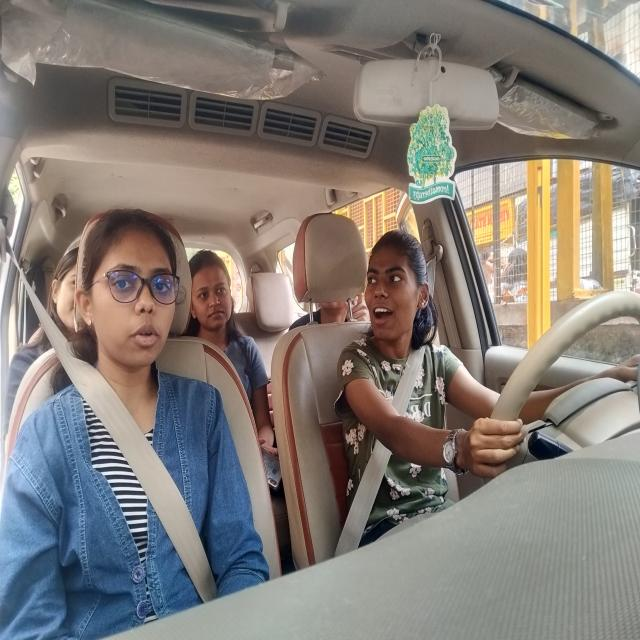LeftRight: (363, 230, 426, 348)
person: (78, 215, 181, 371), (188, 249, 242, 338), (49, 247, 82, 336), (322, 303, 349, 321)
talking: (372, 297, 398, 326)
